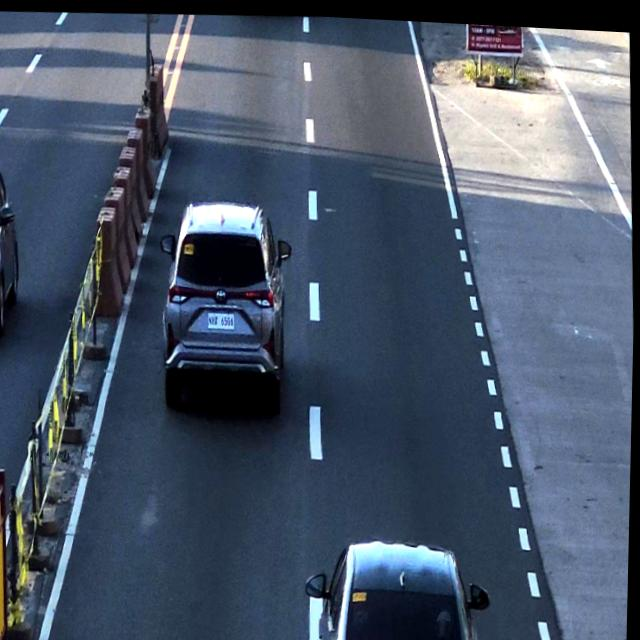Car: (162, 188, 284, 411), (313, 522, 481, 640)
License-Plate: (206, 307, 241, 335)
